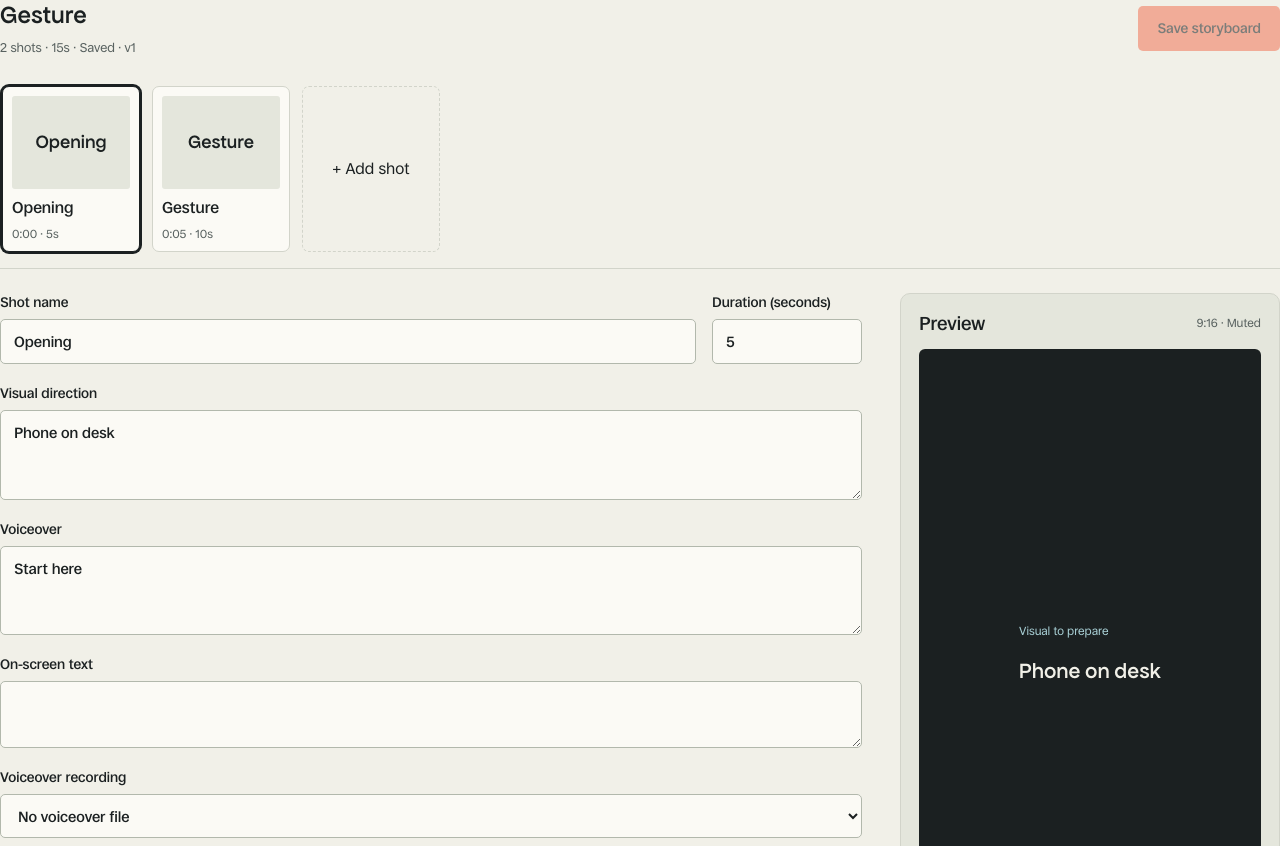
preserves local edits on conflict and blocks navigation until explicitly reloaded
Replace the text in the text box labelled "Voiceover" with "Keep my edit" at x=431, y=590, box [0,546,862,635]
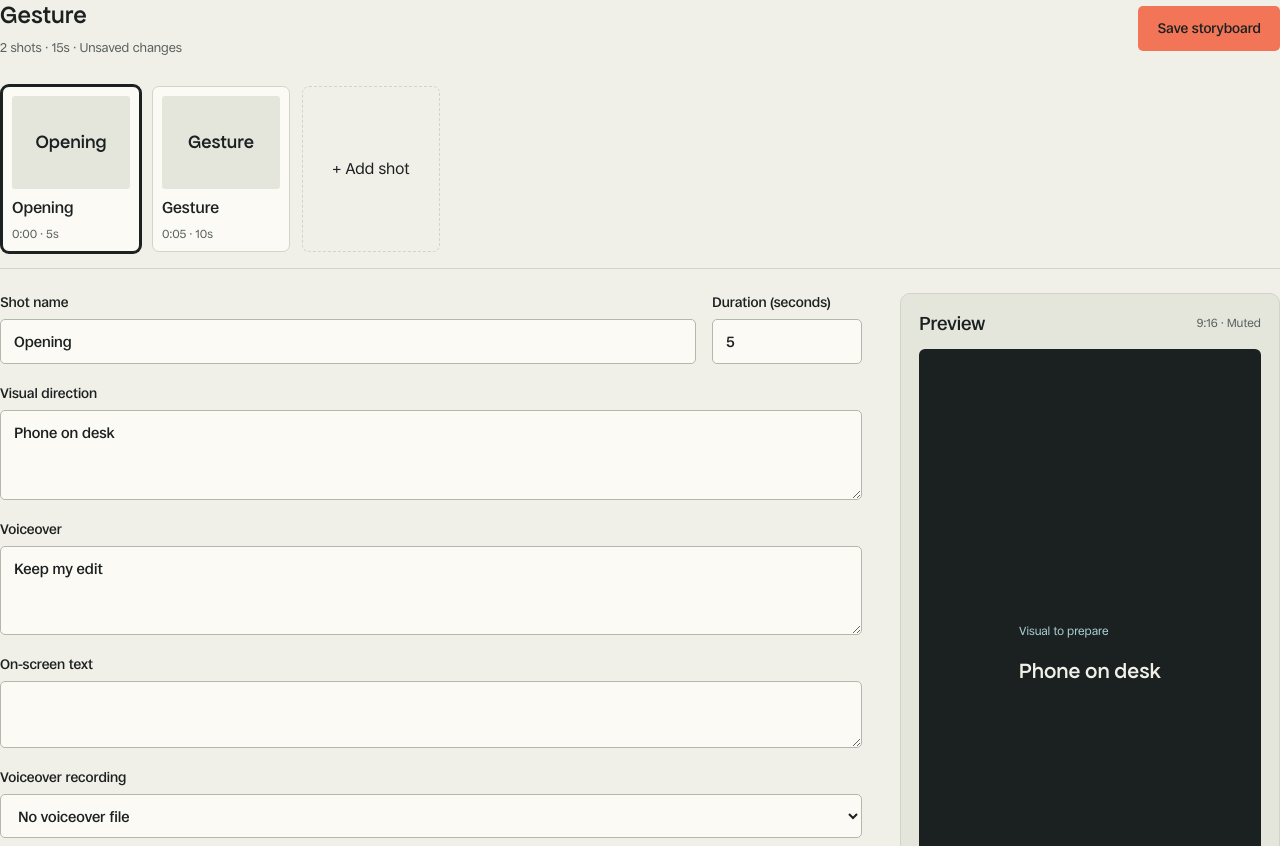
Click the button "Save storyboard" at x=1209, y=29, box [1138,6,1279,51]
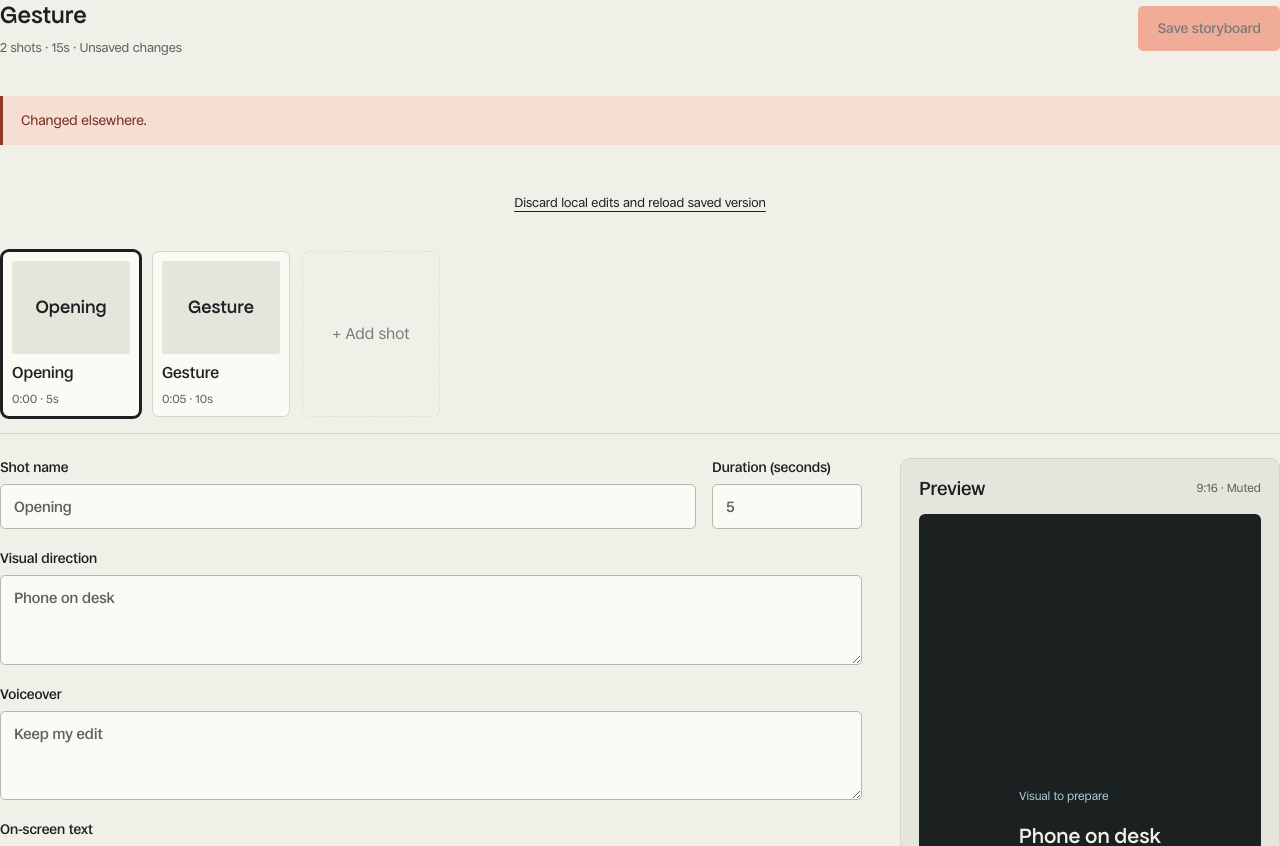
expect the text "Changed elsewhere." is shown: met, box [0,96,1279,144]
Click the button "Discard local edits and reload saved version" at x=640, y=202, box [0,182,1279,222]
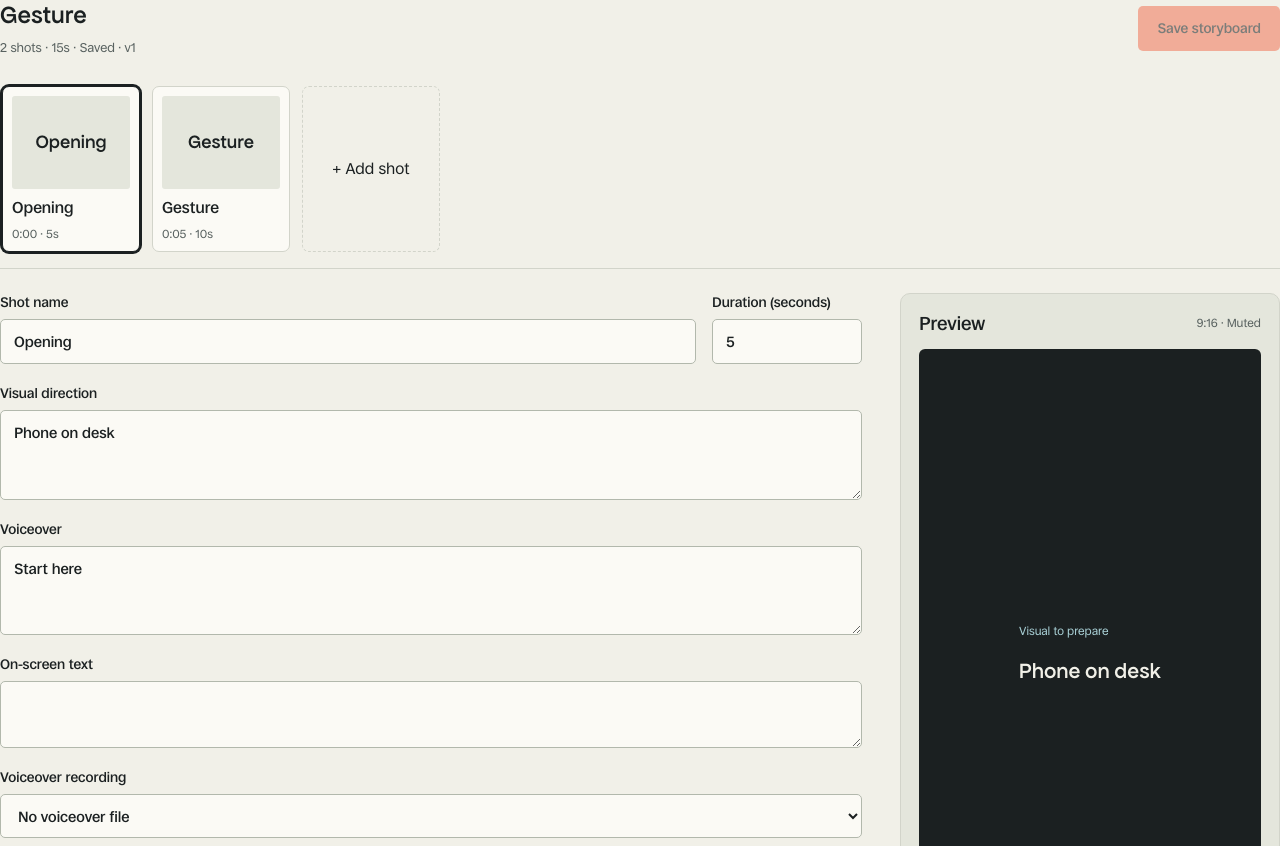
expect the text box labelled "Voiceover" holds "Start here": met, box [0,546,862,635]
